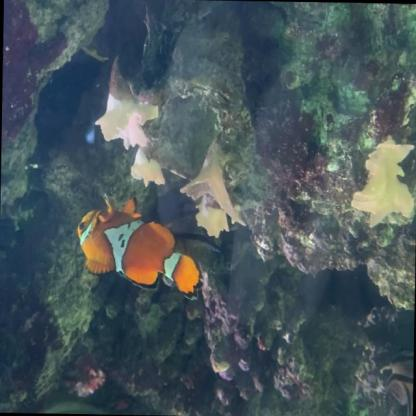fish: (74, 193, 206, 300)
